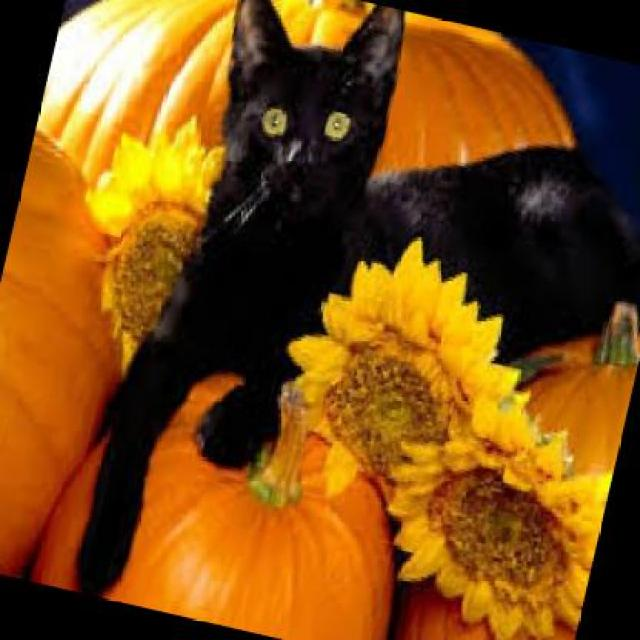animals: (66, 0, 638, 638)
